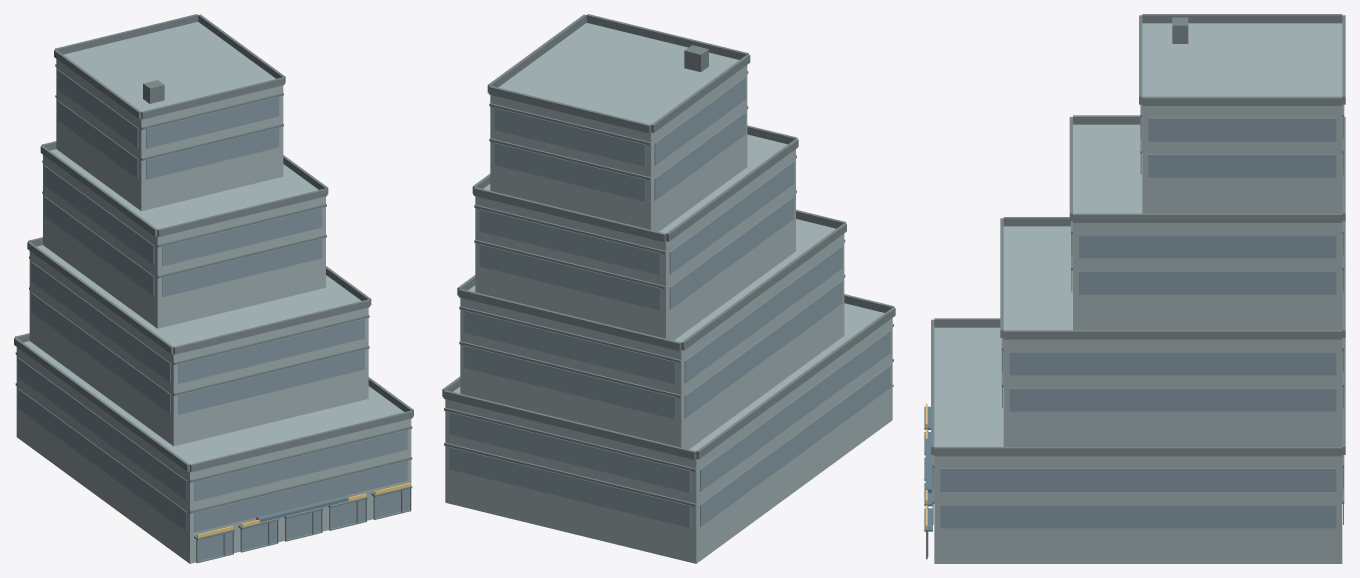
Rendered from commercial_3x4_terraces.glb.
3 renders of one model, left to right at view 1: azimuth 30°, elevation 25°; view 2: azimuth 150°, elevation 25°; view 3: azimuth 270°, elevation 25°, orthographic. The views are drawn at different scales.
Visible parts, largest first — view 1: commercial_3x4_terraces_0; view 2: commercial_3x4_terraces_0; view 3: commercial_3x4_terraces_0.
Boxes of the visible parts, box(x1,y1,x2,y2) form: commercial_3x4_terraces_0: box(14, 14, 413, 563); commercial_3x4_terraces_0: box(442, 14, 895, 563); commercial_3x4_terraces_0: box(924, 14, 1345, 563).
Size of the model in its own units: 23 by 37.5 by 31.5.
